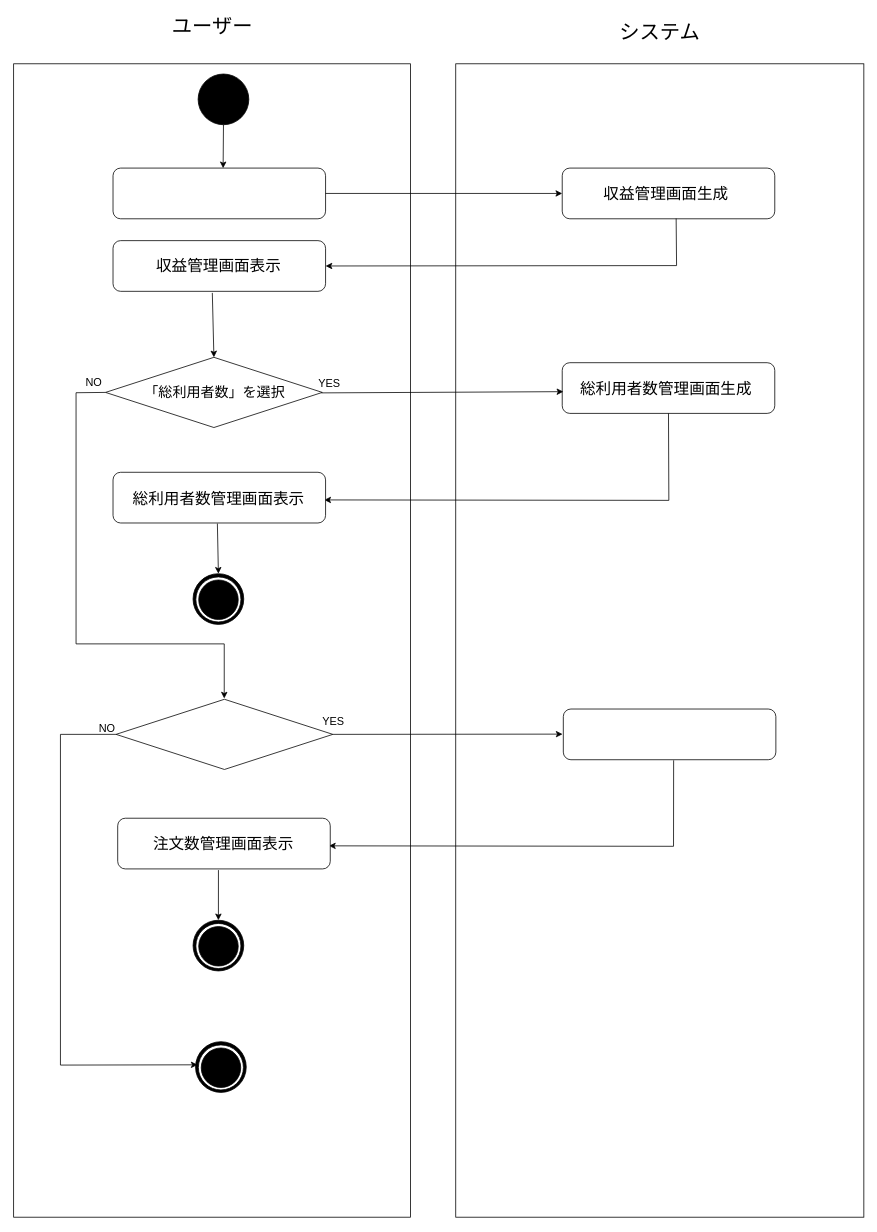
This 877x1232 diagram has some shape labels left out. The centre of each missing label's shape, as x and y in pixels:
"「収益管理」を選択" belongs at point 219,193.
"「注文数管理」を選択" belongs at point 224,733.
"注文数管理画面生成" belongs at point 669,734.
